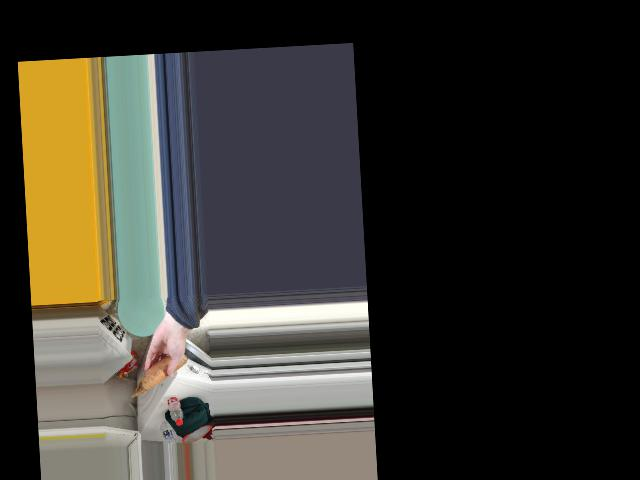sweet_potato: (148, 348, 186, 382)
